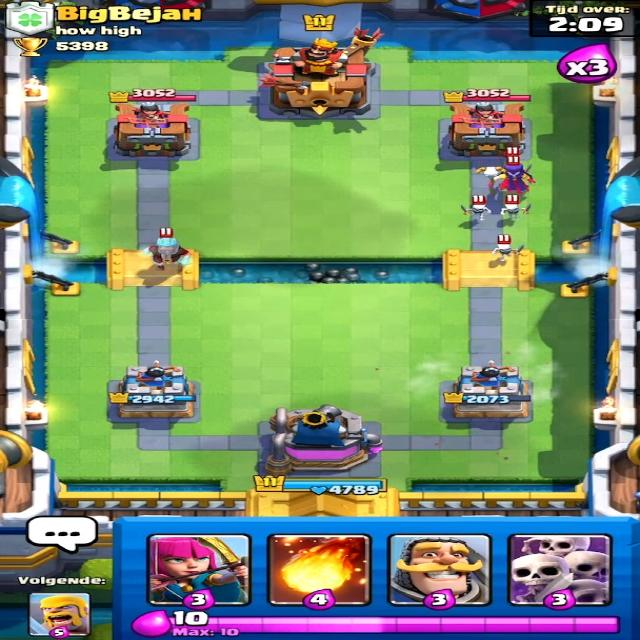Enemy_Ice_Wizard_Troop: (140, 234, 190, 274)
Enemy_Skeleton_Troop: (492, 241, 526, 261), (500, 202, 532, 218), (461, 203, 493, 219)
Enemy_Witch_Troop: (480, 158, 542, 192)
Fireball_Card: (268, 534, 366, 604)
